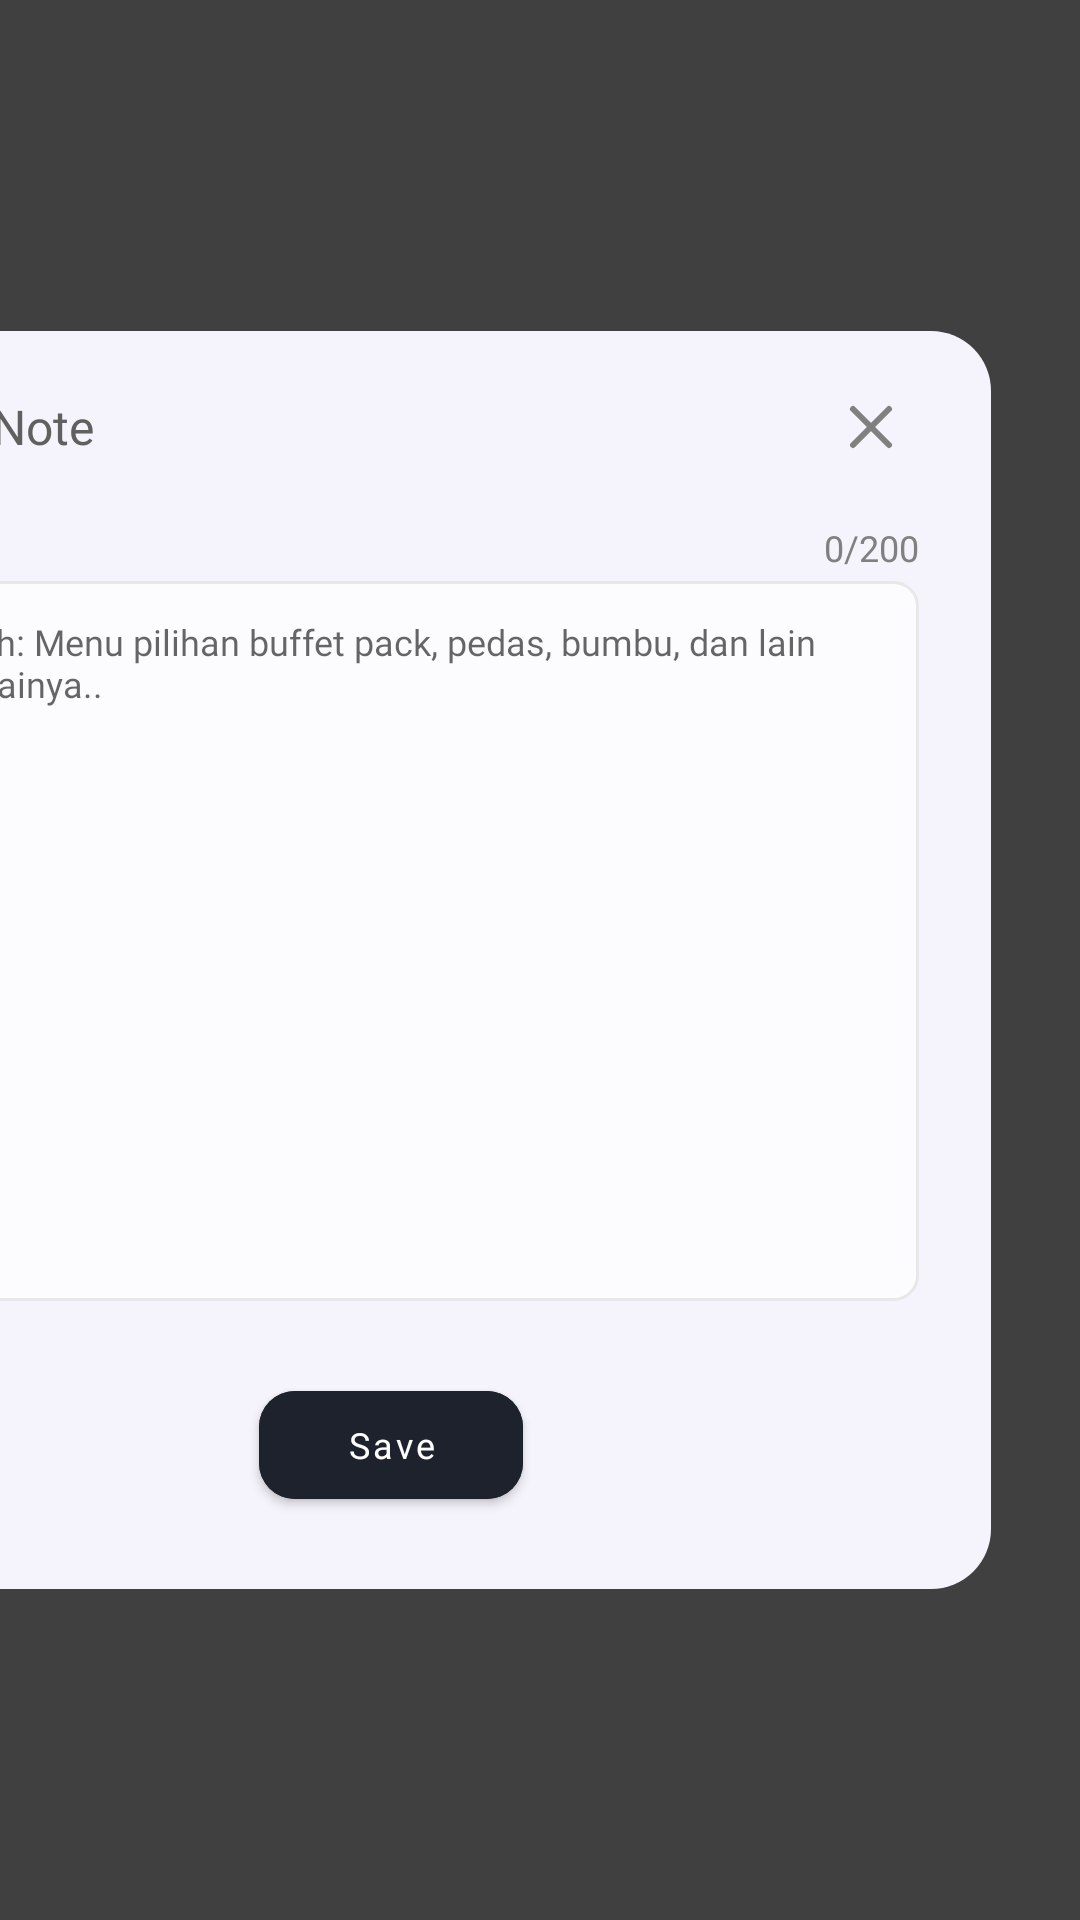

Locate icon controls on the screen. Image size 1080 x 1920, boxes as (x1, y1, x2, y2).
close: (850, 406, 892, 448)
